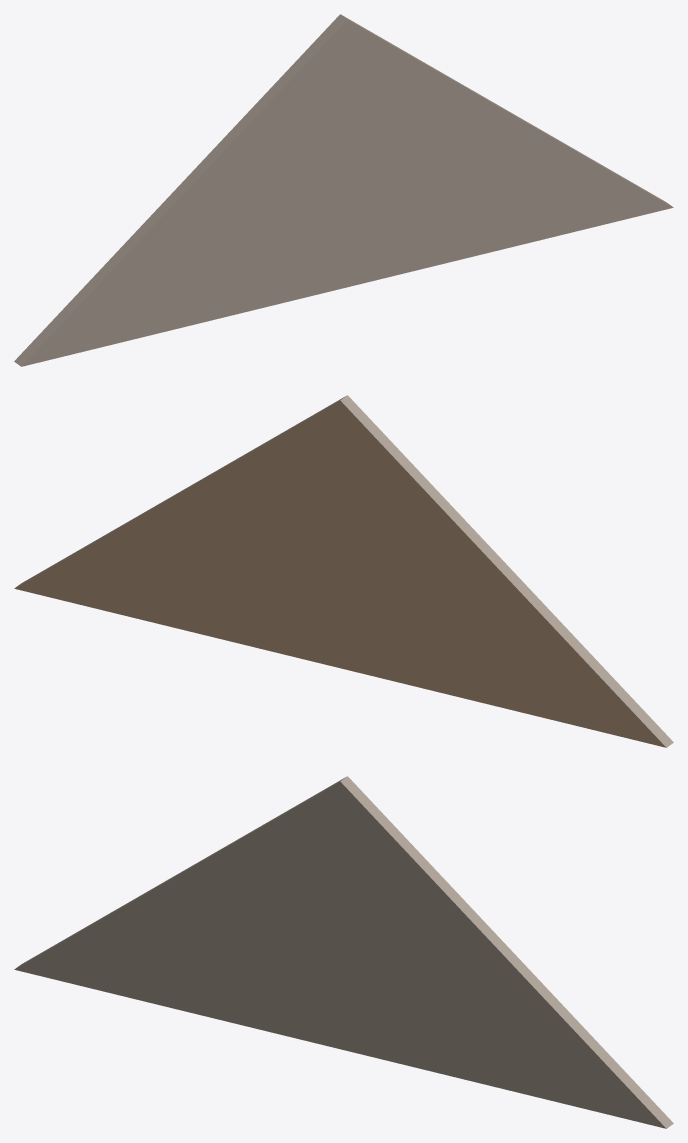
Rendered from Wall2_C4_18.fbx.
The picture shows the model from 3 angles, top to bottom: view 1: azimuth 30°, elevation 25°; view 2: azimuth 150°, elevation 25°; view 3: azimuth 330°, elevation 25°; orthographic projection.
Visible parts, largest first — view 1: Wall2_C4_18; view 2: Wall2_C4_18; view 3: Wall2_C4_18.
Boxes of the visible parts, x1,y1,x2,y2 form: Wall2_C4_18: [14, 14, 673, 366]; Wall2_C4_18: [14, 395, 673, 747]; Wall2_C4_18: [14, 776, 673, 1128].
Bounding box in the file's own units: 765 × 300 × 15.
